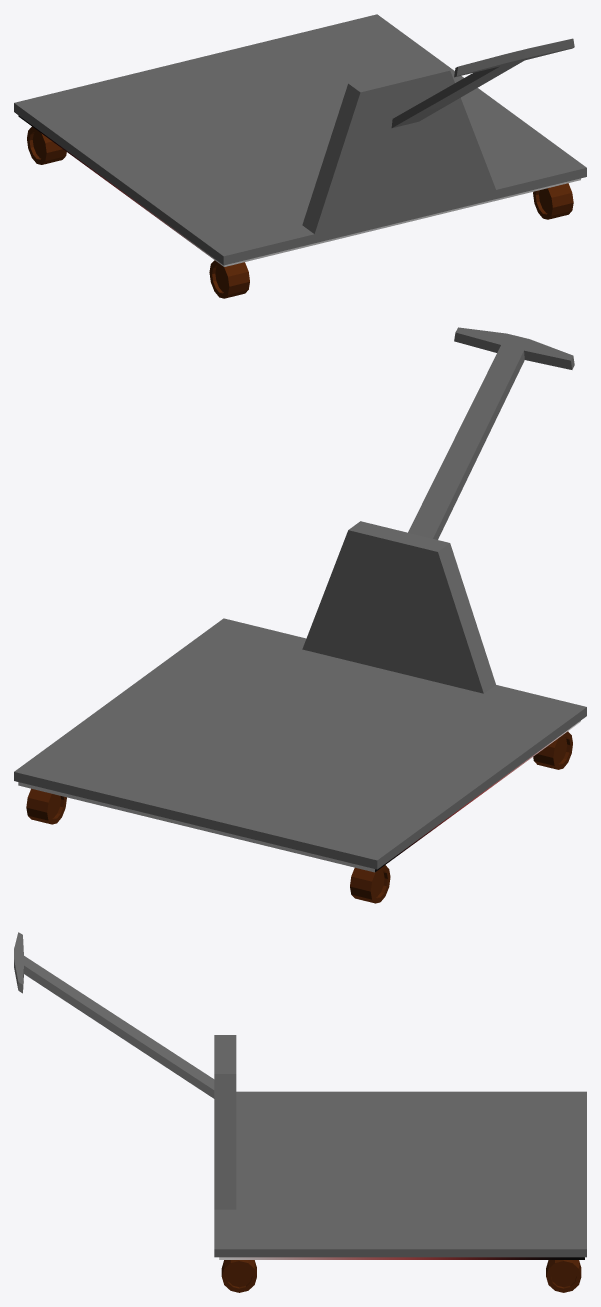
The model's file is roller stand.fbx.
3 views of the same model, one above another, from view 1: azimuth 30°, elevation 25°; view 2: azimuth 150°, elevation 25°; view 3: azimuth 270°, elevation 25° (orthographic). The views are drawn at different scales.
Parts seen in each view (by area): view 1: roller_stand, stand, wheel1, wheel, wheel3; view 2: roller_stand, stand, wheel3, wheel2, wheel1; view 3: roller_stand, stand, wheel2, wheel.
Part boxes in pixels (left/top/right/bottom): roller_stand: left=14, top=14, right=586, bottom=265; stand: left=18, top=115, right=580, bottom=266; wheel1: left=209, top=260, right=249, bottom=298; wheel: left=533, top=183, right=573, bottom=219; wheel3: left=27, top=126, right=66, bottom=164; roller_stand: left=14, top=327, right=586, bottom=869; stand: left=18, top=721, right=580, bottom=872; wheel3: left=350, top=865, right=390, bottom=903; wheel2: left=26, top=788, right=66, bottom=824; wheel1: left=533, top=731, right=572, bottom=769; roller_stand: left=14, top=932, right=586, bottom=1257; stand: left=219, top=1257, right=584, bottom=1259; wheel2: left=546, top=1260, right=581, bottom=1292; wheel: left=221, top=1260, right=256, bottom=1292.
Bounding box in the file's own units: 211 × 165 × 325.
Materials: 3 (1 with a texture image).
